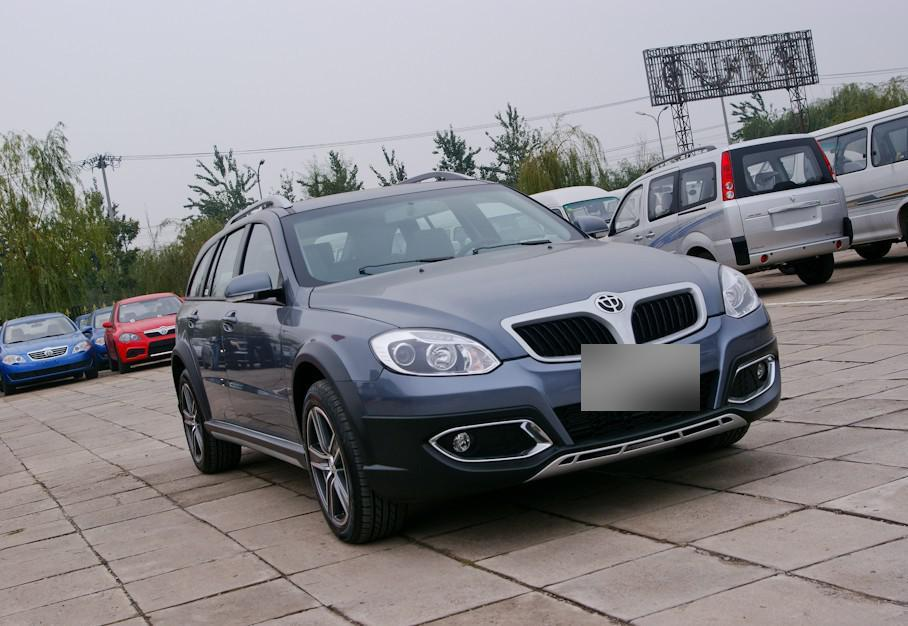Wagon: (169, 169, 784, 548)
